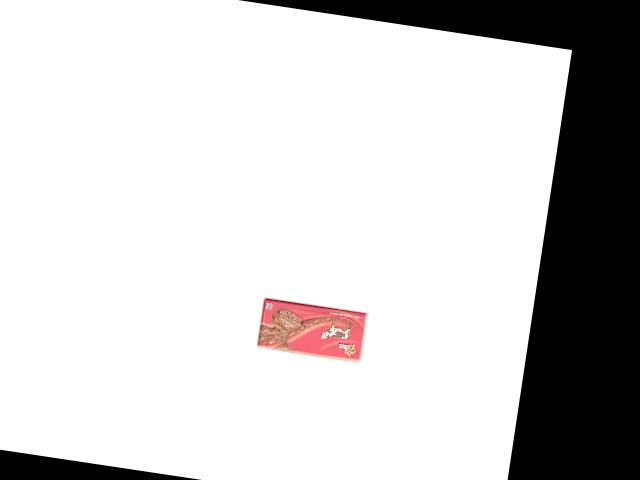chocolate: (251, 305, 357, 372)
